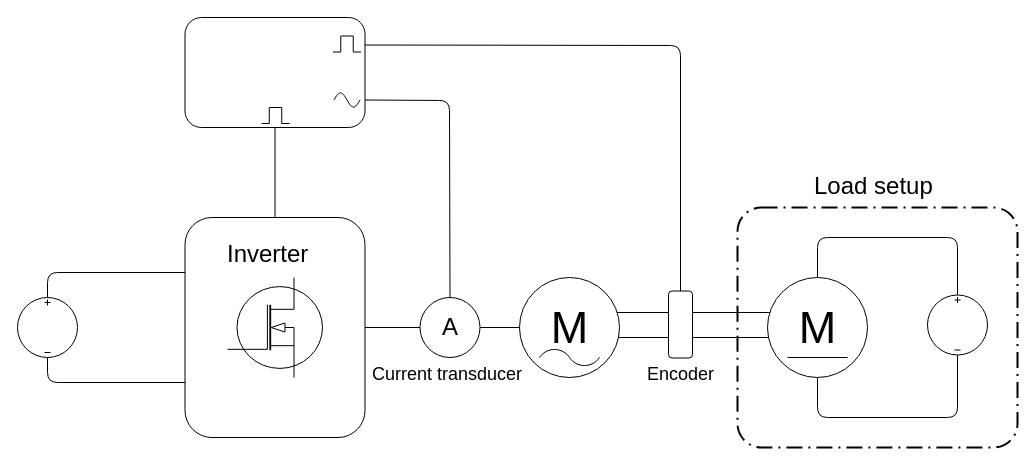
The diagram is 1036 pixels wide and 466 high, and some of its shapes have lost their labels. Each missing label, with the box of its shape:
Interface PCB: (184, 16, 365, 128)
V dc: (16, 296, 78, 358)
